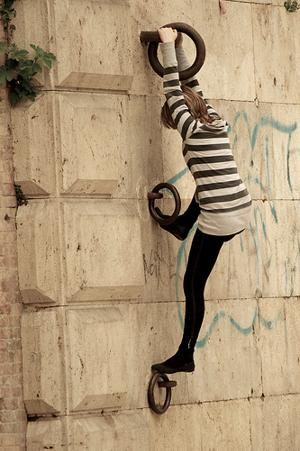person: (150, 26, 252, 375)
